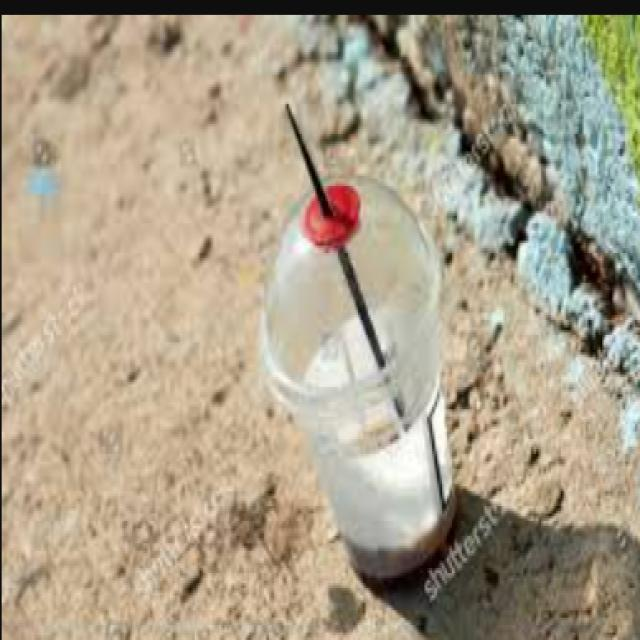GelasPlastik: (259, 171, 457, 581)
